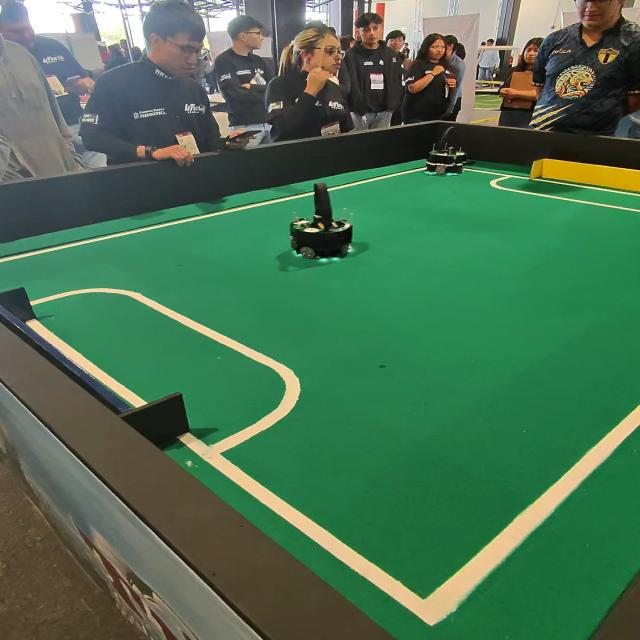Robot: (284, 177, 372, 276), (424, 127, 468, 179)
